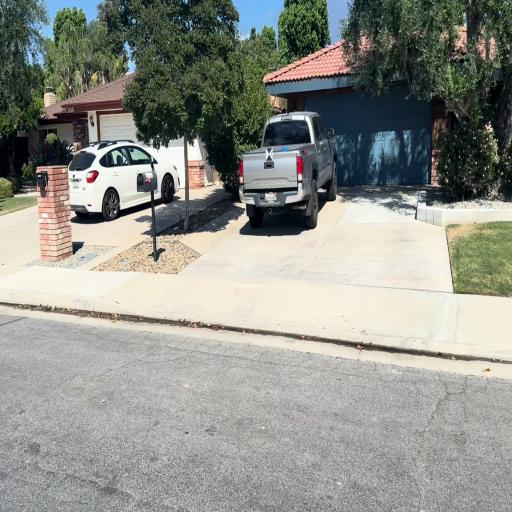target1: (266, 148, 273, 161)
